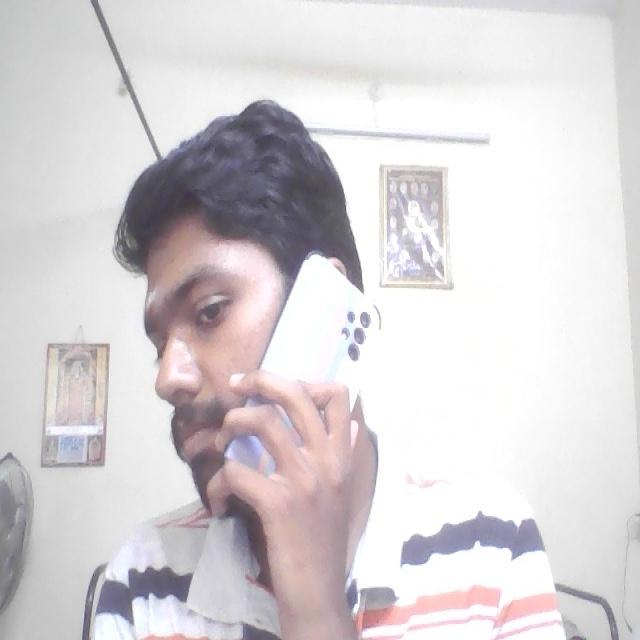Mobile: (247, 230, 392, 453)
